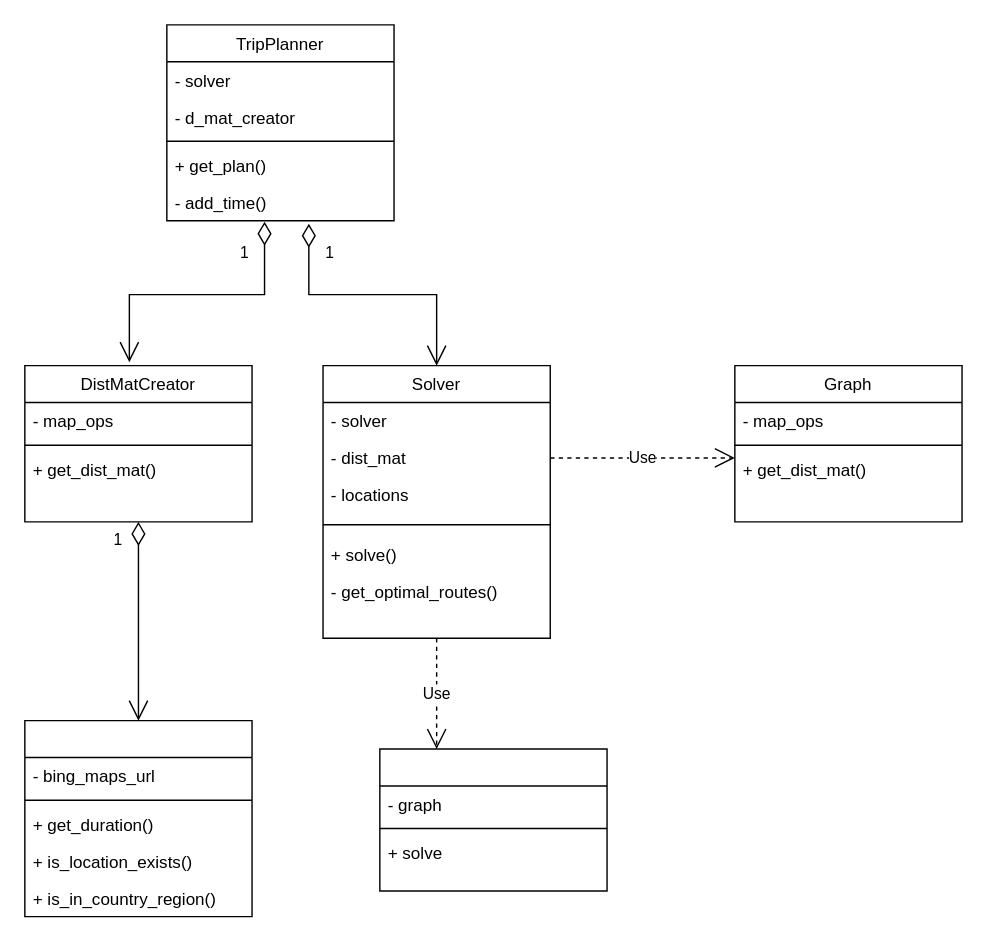
Some shapes in this 987 by 946 pixel diagram are drawn without their labels. Here are the shapes that lost their labels. From the top down, the box of each, then its label:
(23, 719, 252, 917): MapOps
(378, 748, 607, 891): ChristofidesTSPSolver
